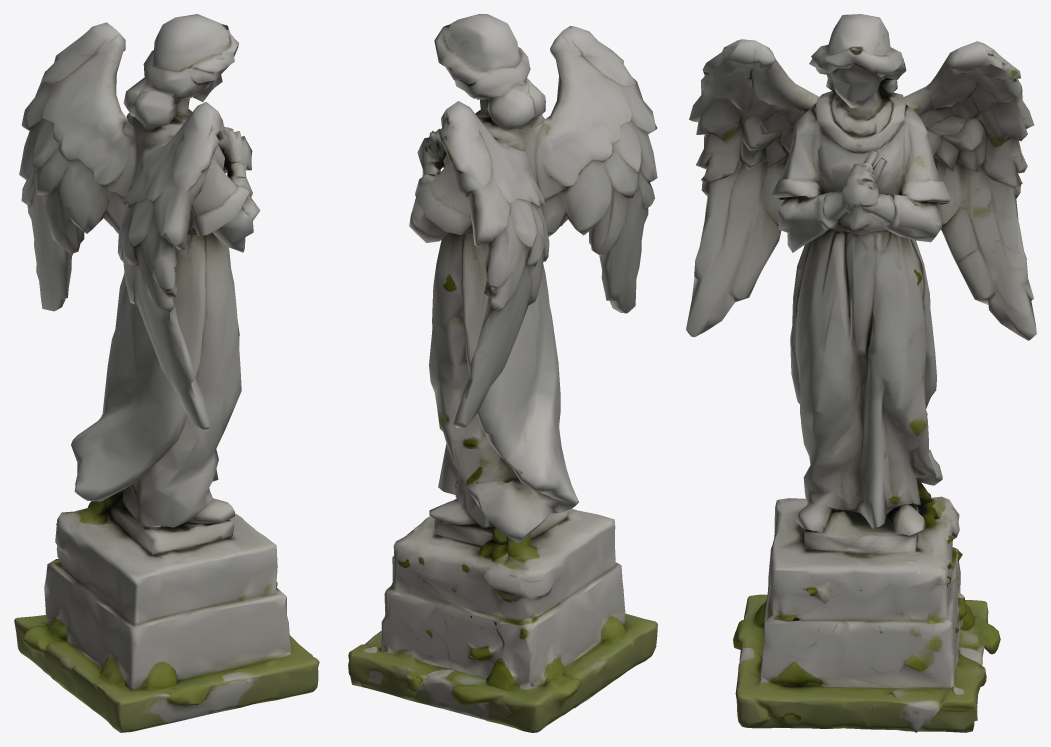
Rendered from cemetery_angel.glb.
The picture shows the model from 3 angles, left to right: view 1: azimuth 30°, elevation 25°; view 2: azimuth 150°, elevation 25°; view 3: azimuth 270°, elevation 25°; orthographic projection. The views are drawn at different scales.
Parts seen in each view (by area): view 1: tripo_node_92420bc0-515f-4dc7-b5bf-2fc70eb72cb4; view 2: tripo_node_92420bc0-515f-4dc7-b5bf-2fc70eb72cb4; view 3: tripo_node_92420bc0-515f-4dc7-b5bf-2fc70eb72cb4.
Boxes of the visible parts, left/top/right/bottom form: tripo_node_92420bc0-515f-4dc7-b5bf-2fc70eb72cb4: left=14, top=14, right=319, bottom=732; tripo_node_92420bc0-515f-4dc7-b5bf-2fc70eb72cb4: left=348, top=14, right=657, bottom=732; tripo_node_92420bc0-515f-4dc7-b5bf-2fc70eb72cb4: left=686, top=14, right=1036, bottom=732.
Size of the model in its own units: 0.3384 by 1 by 0.4707.
1 material, 1 textured.
